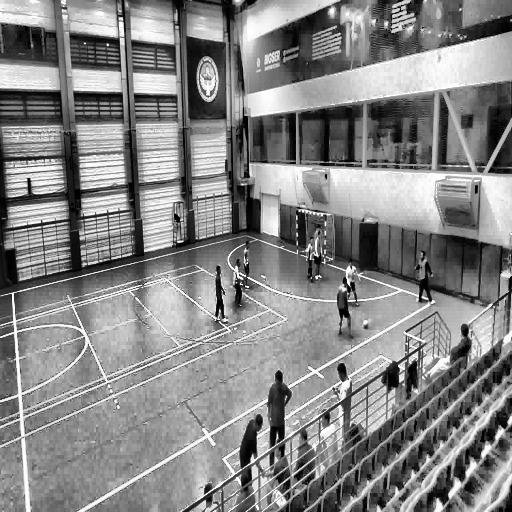ball: (362, 318, 370, 333)
player: (267, 370, 290, 466), (238, 411, 264, 486), (332, 361, 352, 438), (337, 276, 352, 335), (345, 258, 362, 307), (416, 251, 431, 304), (214, 266, 227, 322), (233, 258, 245, 308), (242, 238, 252, 290), (306, 230, 316, 280), (314, 230, 323, 282), (315, 222, 323, 248)
